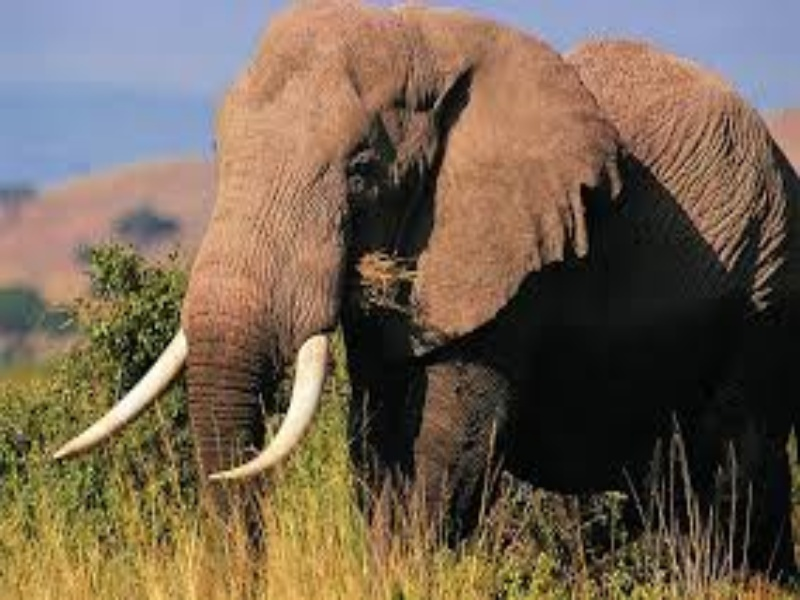elephant: (38, 5, 792, 563)
